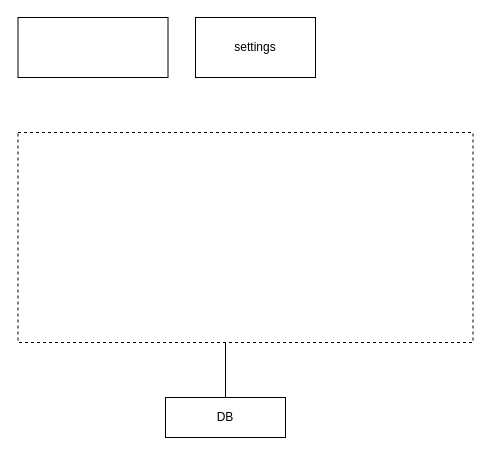
The diagram is 490 pixels wide and 455 high, and some of its shapes have lost their labels. Each missing label, with the centre of its shape:
"doll" goes at (x=92, y=47).
"服务层" goes at (x=245, y=237).
